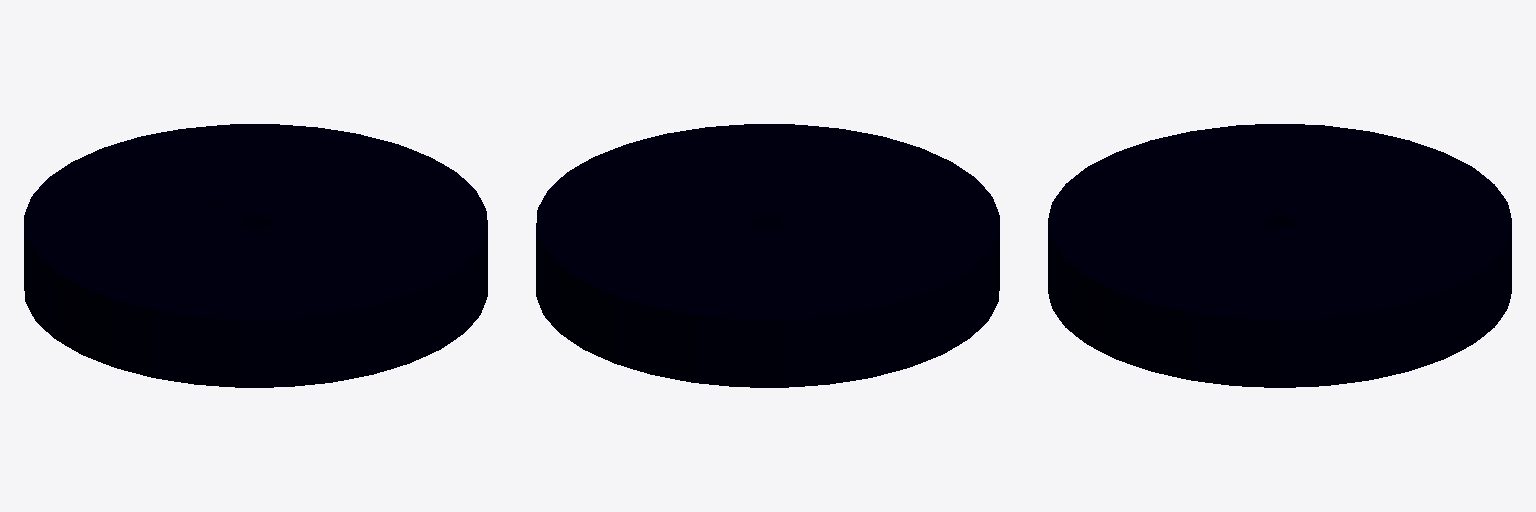
The model's file is car_bed_glass_blue.obj.
The picture shows the model from 3 angles: view 1: azimuth 30°, elevation 25°; view 2: azimuth 150°, elevation 25°; view 3: azimuth 270°, elevation 25°; orthographic projection.
Parts seen in each view (by area): view 1: Circle; view 2: Circle; view 3: Circle.
Boxes of the visible parts, x1=… form: Circle: x1=24, y1=124, x2=487, y2=387; Circle: x1=536, y1=124, x2=999, y2=387; Circle: x1=1048, y1=124, x2=1511, y2=387.
Size of the model in its own units: 1.89 by 0.311 by 1.89.